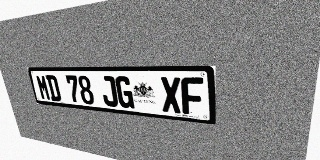7: (65, 75, 82, 104)
8: (77, 75, 95, 105)
D: (45, 75, 62, 102)
F: (181, 77, 204, 116)
G: (115, 76, 134, 109)
J: (99, 76, 119, 107)
M: (35, 75, 51, 100)
X: (160, 77, 182, 114)
